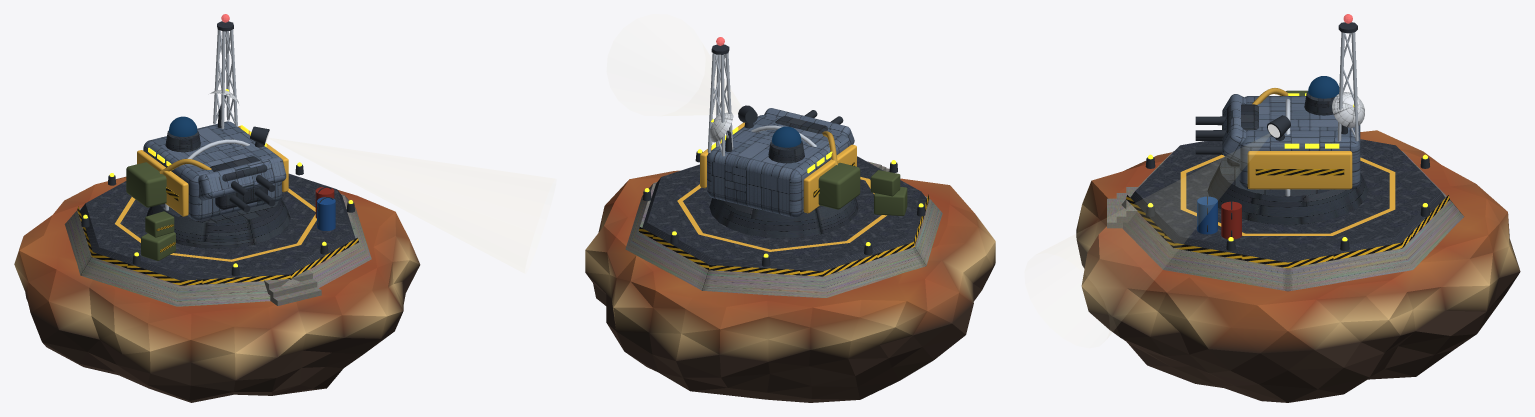
Rendered from autocannon-L25.glb.
3 renders of one model, left to right at view 1: azimuth 30°, elevation 25°; view 2: azimuth 150°, elevation 25°; view 3: azimuth 270°, elevation 25°, orthographic. The views are drawn at different scales.
Visible parts, largest first — view 1: object 1, anim:yaw, object 4, object 2, object 35, object 3, anim:pitch, object 5, object 25, object 27, object 32, object 22; view 2: object 1, anim:yaw, object 4, object 2, object 35, object 3, object 5, object 25, object 27, anim:pitch, anim:rot; view 3: object 1, object 4, anim:yaw, object 2, object 35, object 3, object 5, anim:rot, object 32, object 29, anim:pitch.
Boxes of the visible parts, x1,y1,x2,y2 form: object 1: (14, 176, 420, 402); anim:yaw: (126, 14, 288, 220); object 4: (80, 173, 355, 280); object 2: (64, 194, 371, 306); object 35: (146, 198, 290, 248); object 3: (77, 206, 358, 285); anim:pitch: (210, 156, 267, 209); object 5: (115, 188, 316, 261); object 25: (141, 232, 175, 260); object 27: (145, 211, 174, 237); object 32: (317, 197, 335, 230); object 22: (270, 287, 321, 305); object 1: (585, 170, 995, 402); anim:yaw: (700, 37, 860, 217); object 4: (642, 156, 926, 271); object 2: (625, 182, 942, 297); object 35: (709, 198, 858, 238); object 3: (638, 194, 929, 276); object 5: (677, 177, 886, 251); object 25: (874, 187, 907, 215); object 27: (870, 170, 900, 196); anim:pitch: (775, 116, 827, 133); anim:rot: (710, 112, 733, 142); object 1: (1076, 130, 1520, 402); object 4: (1130, 139, 1445, 262); anim:yaw: (1222, 14, 1360, 189); object 2: (1121, 151, 1464, 291); object 35: (1207, 157, 1368, 224); object 3: (1126, 195, 1449, 268); object 5: (1180, 154, 1395, 235); anim:rot: (1332, 92, 1364, 127); object 32: (1197, 196, 1217, 234); object 29: (1221, 201, 1241, 239); anim:pitch: (1227, 104, 1258, 166).
Size of the model in its own units: 6.86 by 4.86 by 6.17.
21 materials, 7 textured.
